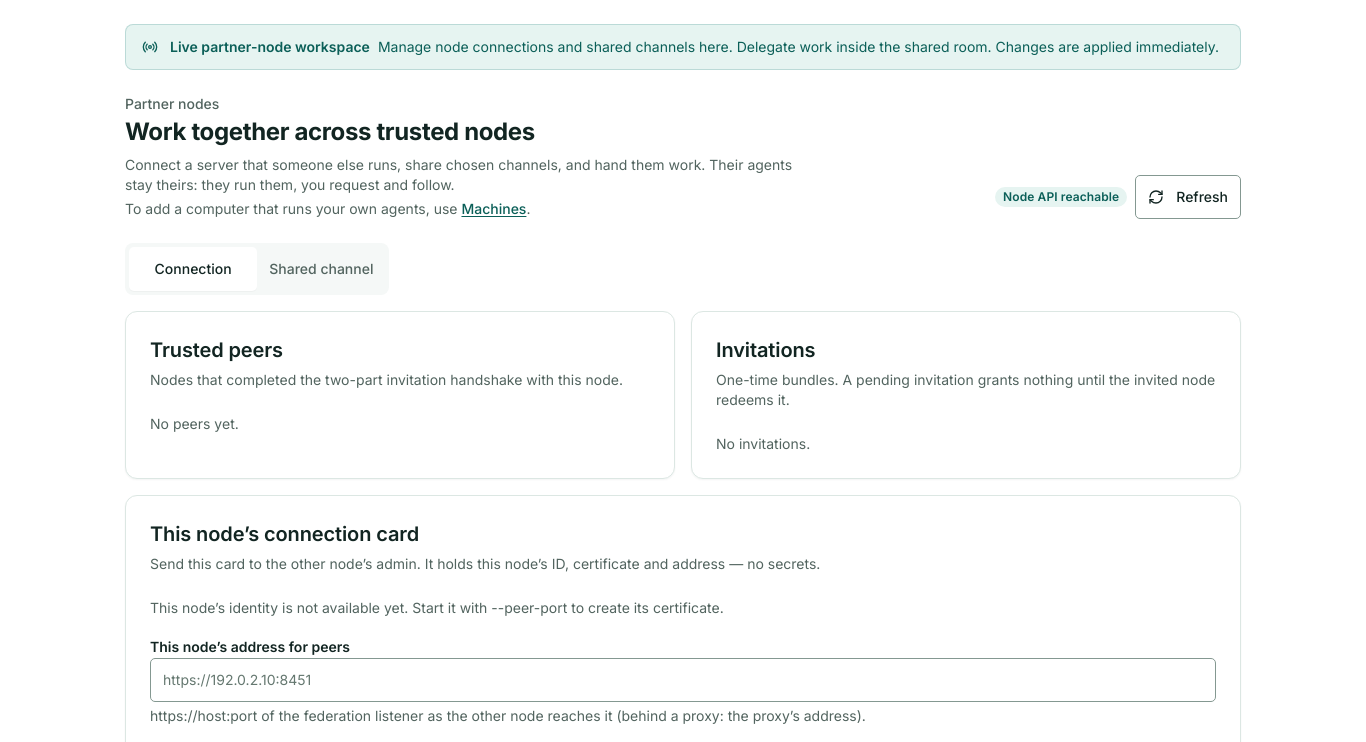
Test: FederationLiveWorkspace — shared channel › keeps the manual-entry hint when the node lists no bindings
Press the mouse on the tab "Shared channel": (321, 269) [257, 247, 385, 291]
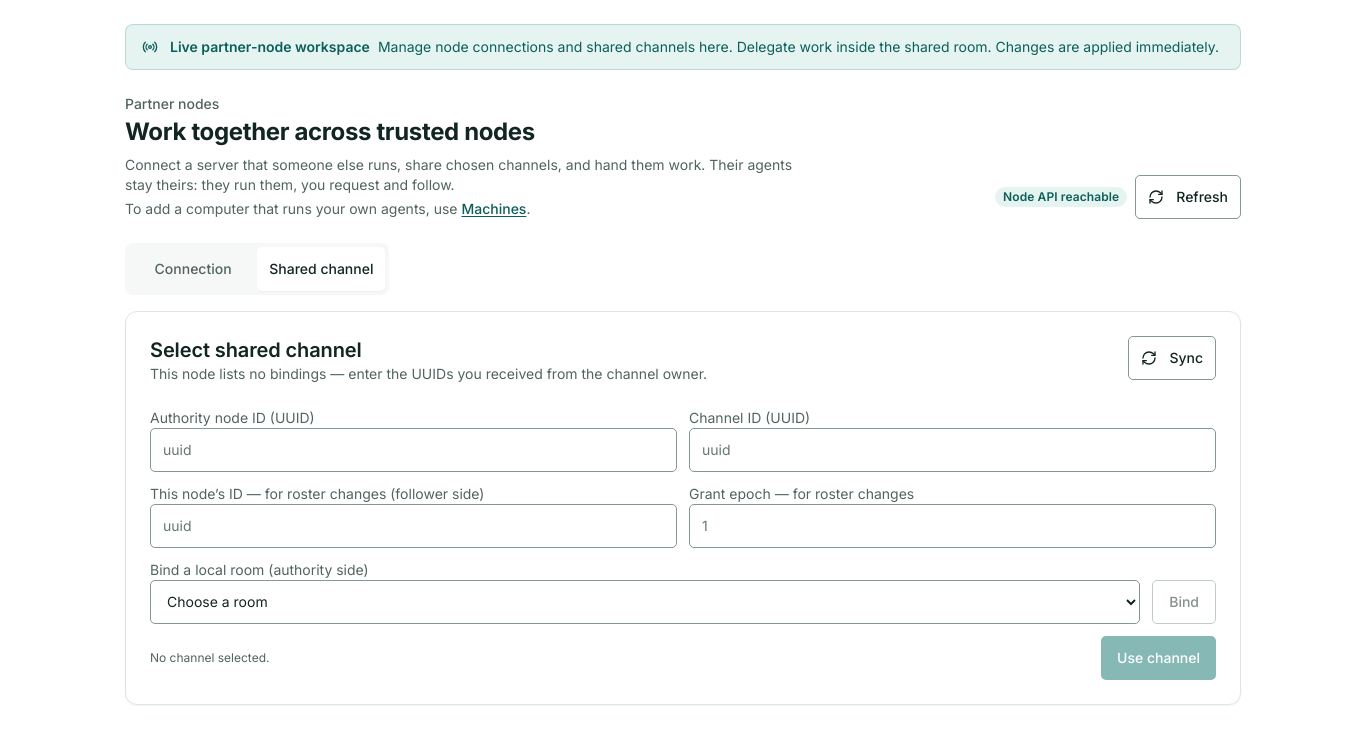
Now the text "This node lists no bindings" is shown, box [150, 365, 707, 382]
